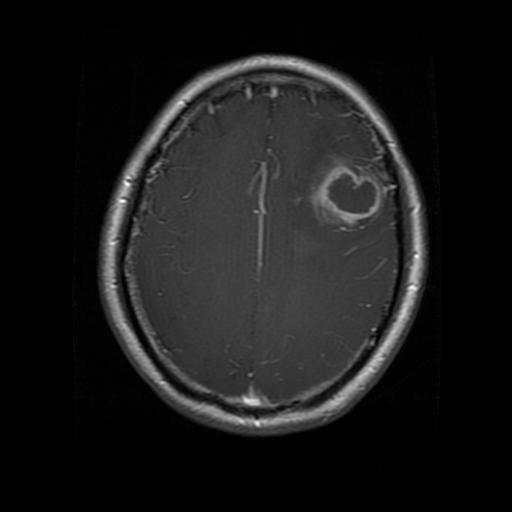Tumour-Glioma: (322, 167, 392, 238)
